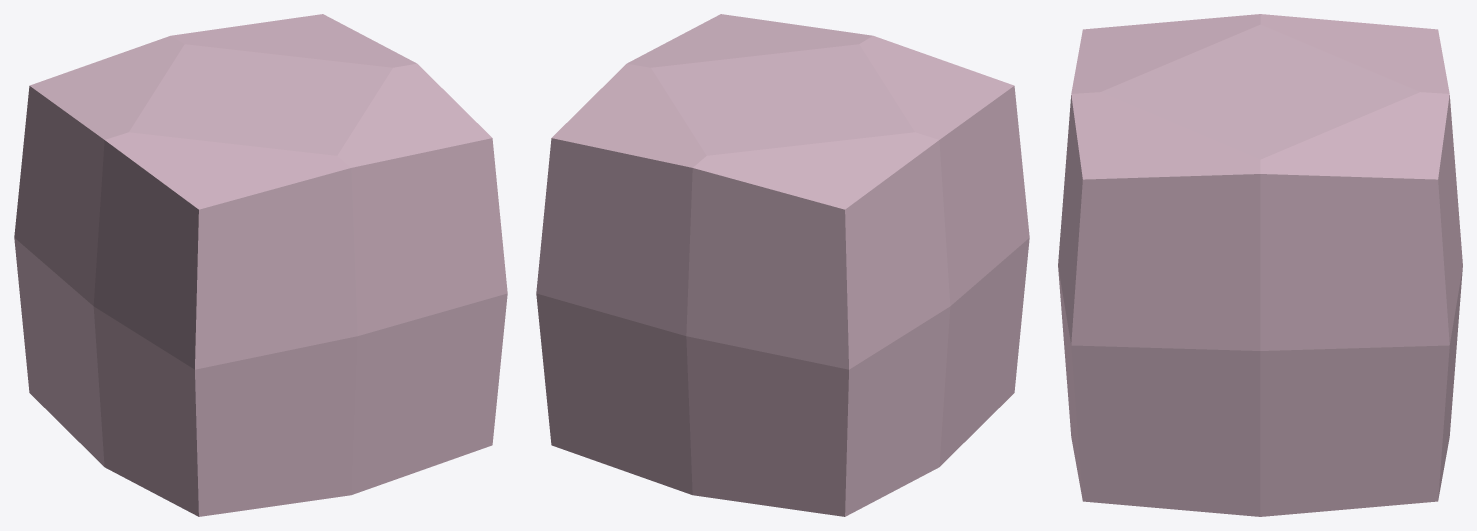
File: percusion.glb
3 renders of one model, left to right at view 1: azimuth 30°, elevation 25°; view 2: azimuth 150°, elevation 25°; view 3: azimuth 270°, elevation 25°, orthographic. The views are drawn at different scales.
Parts seen in each view (by area): view 1: Percusion; view 2: Percusion; view 3: Percusion.
Part boxes in pixels (left/top/right/bottom): Percusion: left=14, top=14, right=507, bottom=516; Percusion: left=536, top=14, right=1029, bottom=516; Percusion: left=1058, top=14, right=1462, bottom=516.
Bounding box in the file's own units: 1.05 × 1.02 × 1.05.
